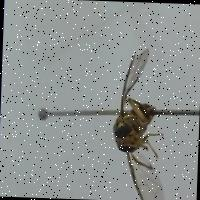Oriental-fruit-fly: (91, 33, 176, 200)
